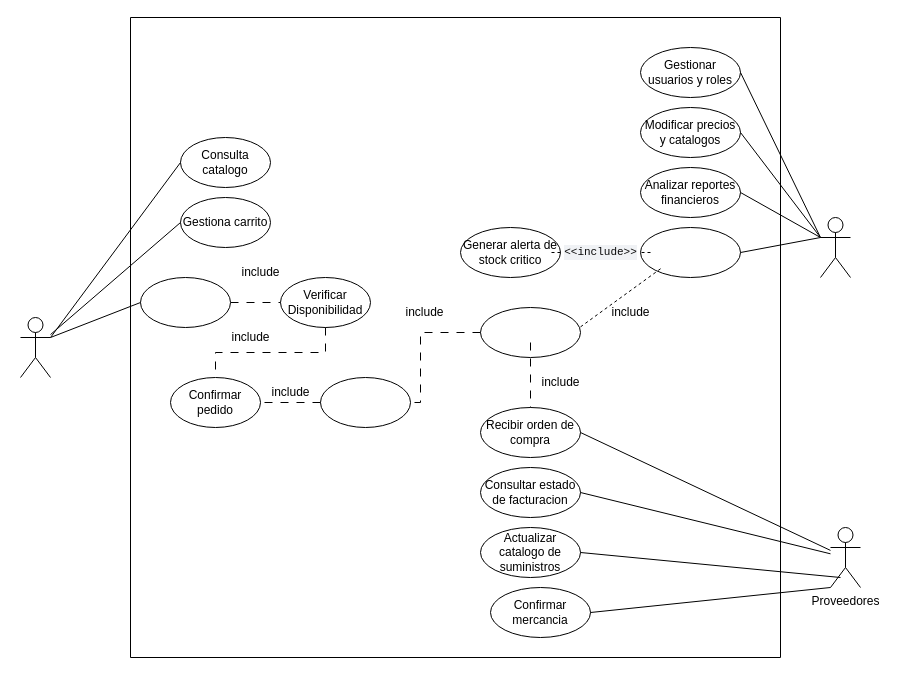
This 897x675 diagram has some shape labels left out. The shapes that lost their labels are listed below. From the top down, each one's centre as x and y in pixels, then its label:
At point 690,252: "Gestionar inventario".
At point 835,247: "Admin".
At point 185,302: "elige producto".
At point 35,347: "Cliente".
At point 530,332: "Emitir orden de compra".
At point 365,402: "Realiza pago".
